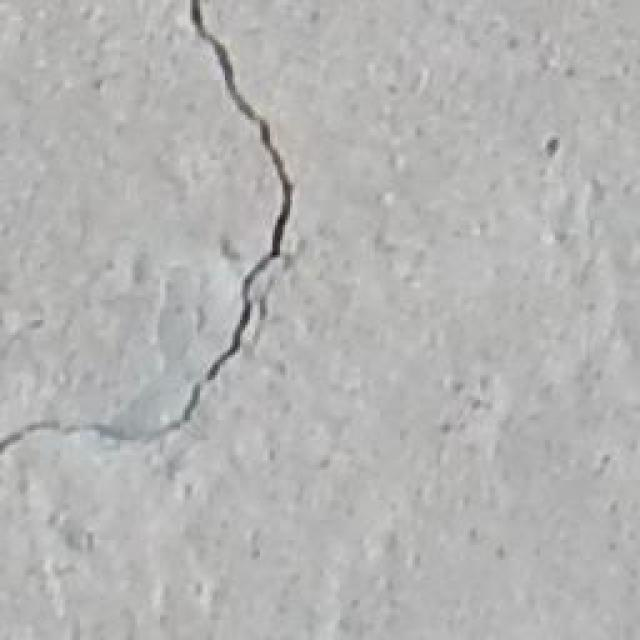concrete-crack: (0, 0, 292, 455)
